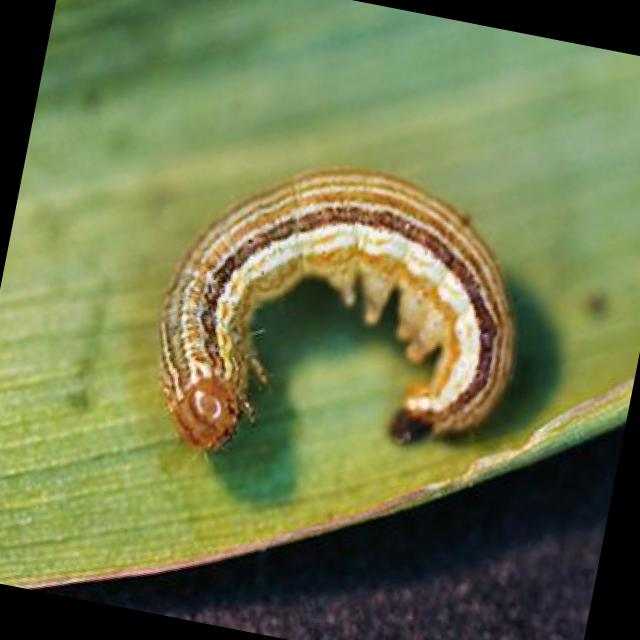armyworm: (126, 121, 560, 526)
